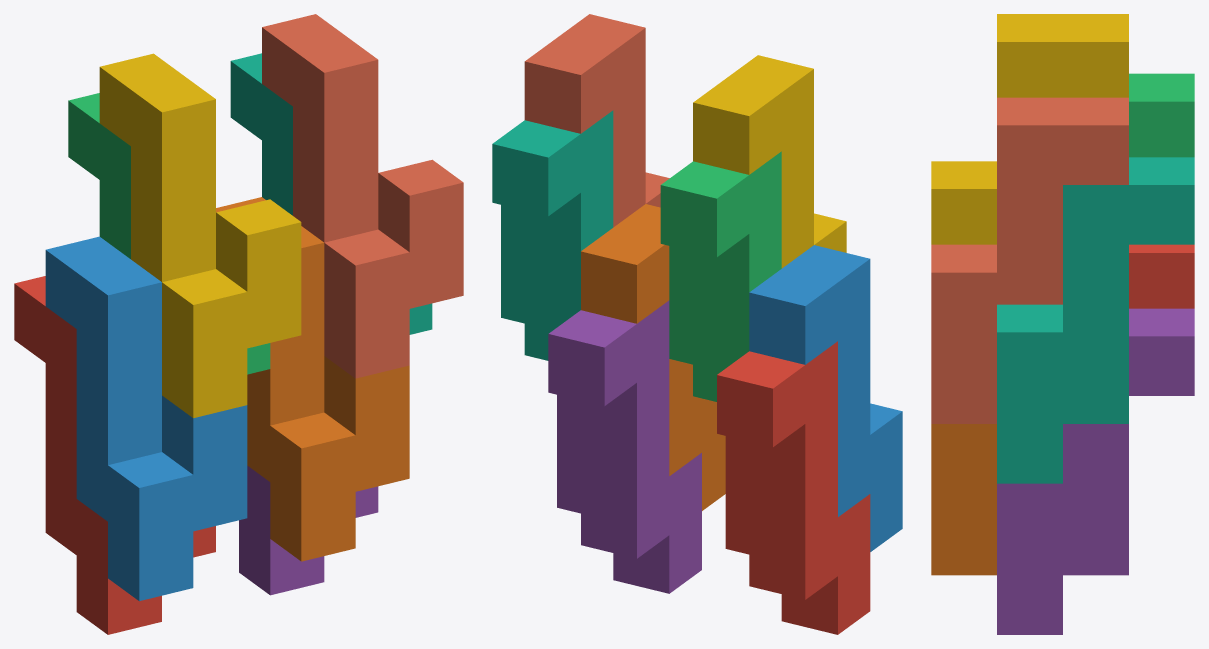
File: tiling.obj
3 renders of one model, left to right at view 1: azimuth 30°, elevation 25°; view 2: azimuth 150°, elevation 25°; view 3: azimuth 270°, elevation 25°, orthographic. The views are drawn at different scales.
Parts seen in each view (by area): view 1: copy_1_domain_2, copy_1_domain_8, copy_1_domain_4, copy_1_domain_6, copy_1_domain_1, copy_1_domain_3, copy_1_domain_7, copy_1_domain_5; view 2: copy_1_domain_1, copy_1_domain_5, copy_1_domain_3, copy_1_domain_2, copy_1_domain_7, copy_1_domain_4, copy_1_domain_8, copy_1_domain_6; view 3: copy_1_domain_7, copy_1_domain_8, copy_1_domain_5, copy_1_domain_4, copy_1_domain_6, copy_1_domain_3, copy_1_domain_1.
Boxes of the visible parts, bbox=[...] form: copy_1_domain_2: bbox=[45, 236, 247, 601]; copy_1_domain_8: bbox=[262, 14, 463, 378]; copy_1_domain_4: bbox=[99, 53, 301, 418]; copy_1_domain_6: bbox=[216, 197, 409, 561]; copy_1_domain_1: bbox=[14, 276, 215, 634]; copy_1_domain_3: bbox=[68, 93, 270, 374]; copy_1_domain_7: bbox=[230, 53, 432, 334]; copy_1_domain_5: bbox=[239, 466, 378, 595]; copy_1_domain_1: bbox=[717, 341, 870, 634]; copy_1_domain_5: bbox=[548, 300, 701, 593]; copy_1_domain_3: bbox=[660, 151, 781, 401]; copy_1_domain_2: bbox=[749, 245, 902, 551]; copy_1_domain_7: bbox=[492, 110, 613, 360]; copy_1_domain_4: bbox=[693, 55, 846, 268]; copy_1_domain_8: bbox=[524, 14, 669, 227]; copy_1_domain_6: bbox=[581, 204, 725, 510]; copy_1_domain_7: bbox=[997, 157, 1194, 483]; copy_1_domain_8: bbox=[931, 97, 1128, 423]; copy_1_domain_5: bbox=[997, 308, 1194, 634]; copy_1_domain_4: bbox=[931, 14, 1128, 244]; copy_1_domain_6: bbox=[931, 424, 996, 575]; copy_1_domain_3: bbox=[1129, 73, 1194, 157]; copy_1_domain_1: bbox=[1129, 244, 1194, 308].
Size of the model in its own units: 6 by 9 by 4.
